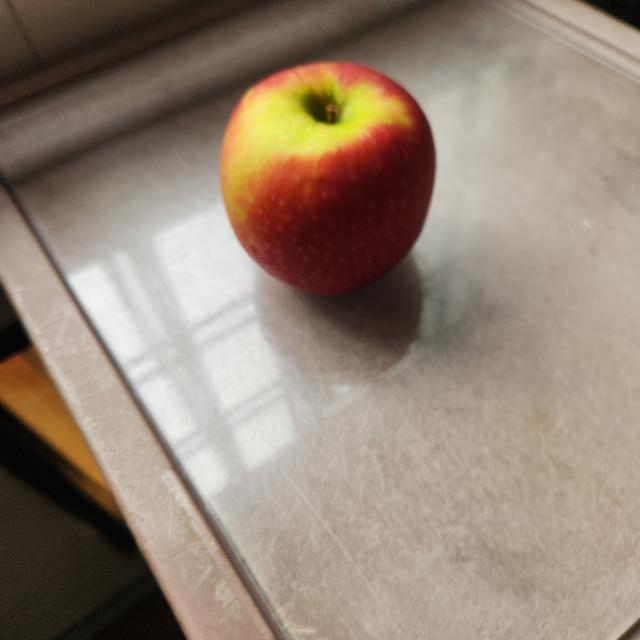apple: (216, 55, 441, 304)
